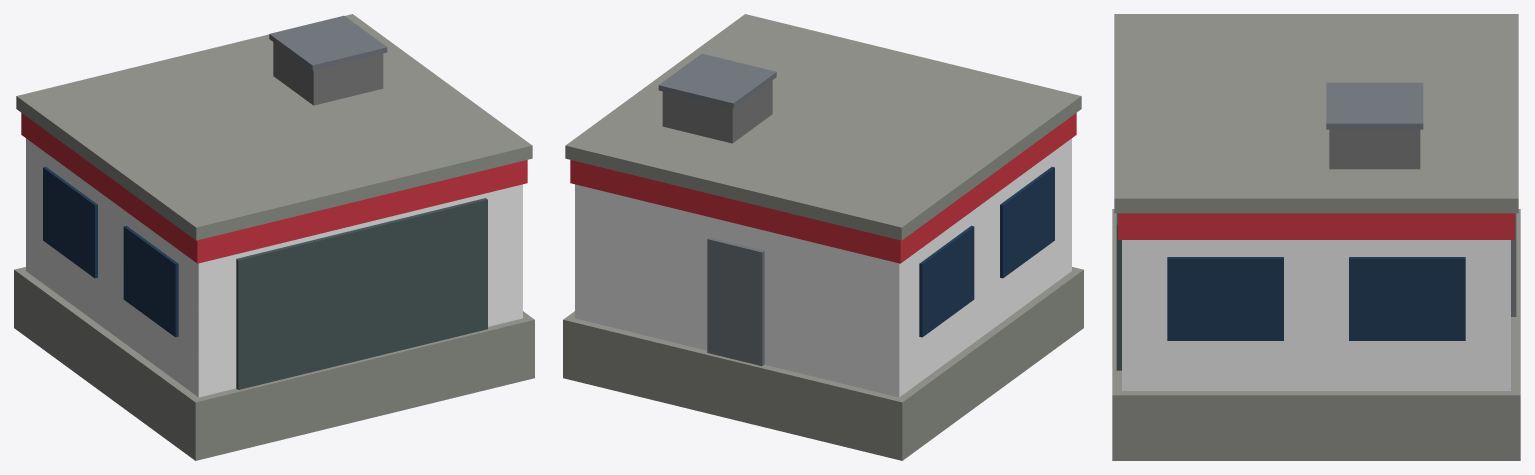
File: mashup-office-mid-prebuilt.fbx
3 renders of one model, left to right at view 1: azimuth 30°, elevation 25°; view 2: azimuth 150°, elevation 25°; view 3: azimuth 270°, elevation 25°, orthographic. The views are drawn at different scales.
Parts seen in each view (by area): view 1: a1019.Office; view 2: a1019.Office; view 3: a1019.Office.
Boxes of the visible parts, box(x1,y1,x2,y2) form: a1019.Office: box(14, 14, 534, 460); a1019.Office: box(563, 14, 1083, 460); a1019.Office: box(1112, 14, 1520, 460).
Size of the model in its own units: 6.8 by 5.25 by 6.3.
